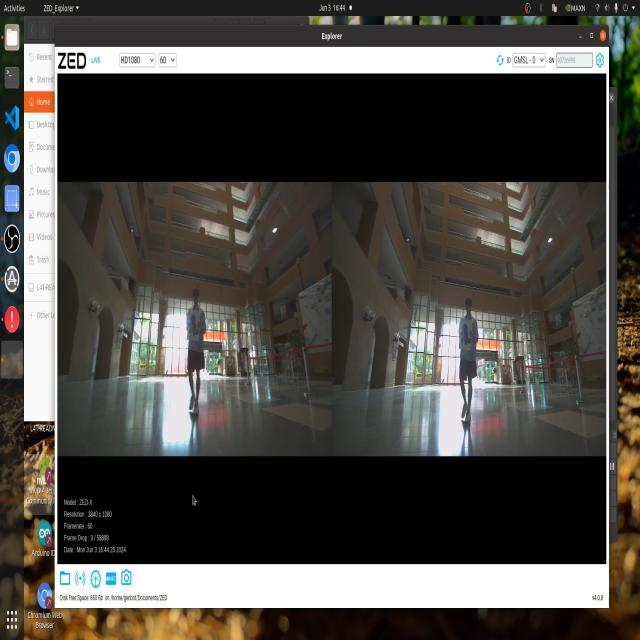blue: (184, 312, 201, 346), (461, 321, 471, 351)
